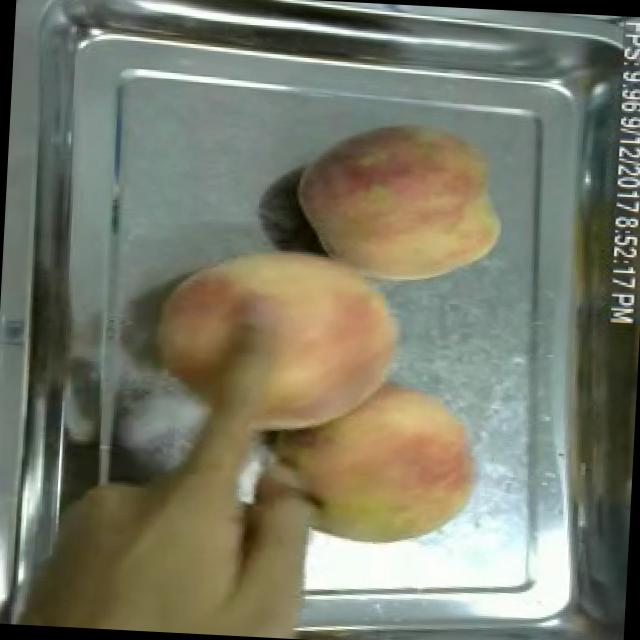Fruit: (11, 438, 312, 640), (146, 234, 414, 448), (285, 107, 512, 296), (303, 374, 488, 556)
